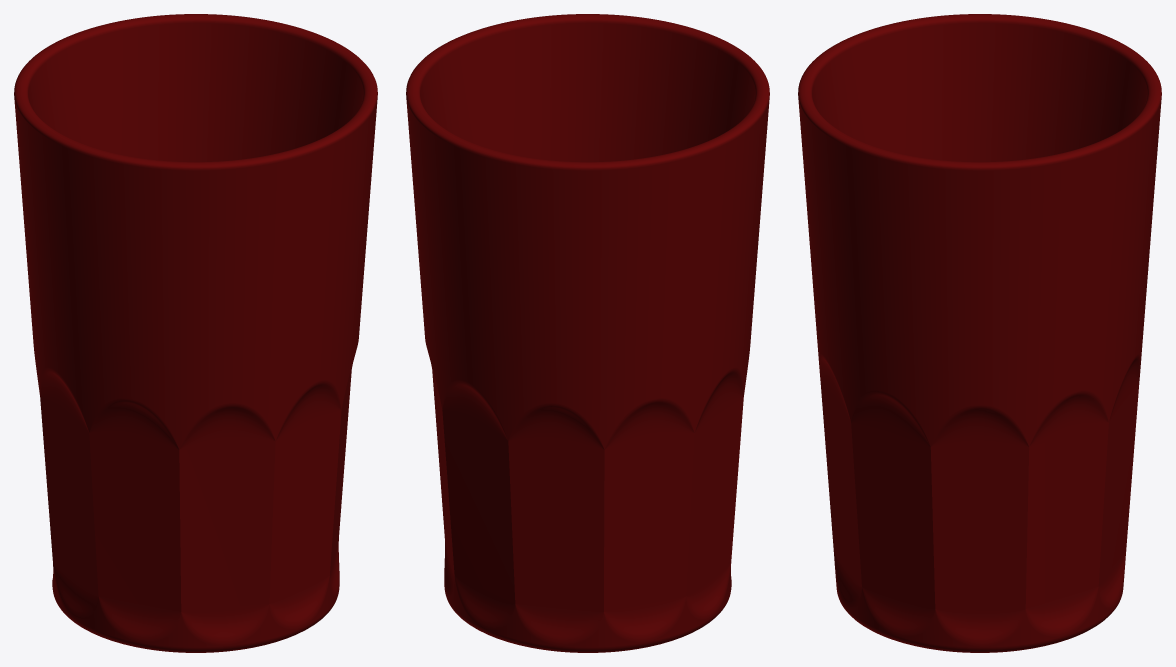
The picture shows the model from 3 angles, left to right: view 1: azimuth 30°, elevation 25°; view 2: azimuth 150°, elevation 25°; view 3: azimuth 270°, elevation 25°; orthographic projection.
Bounding box in the file's own units: 0.065 × 0.0999 × 0.065.
